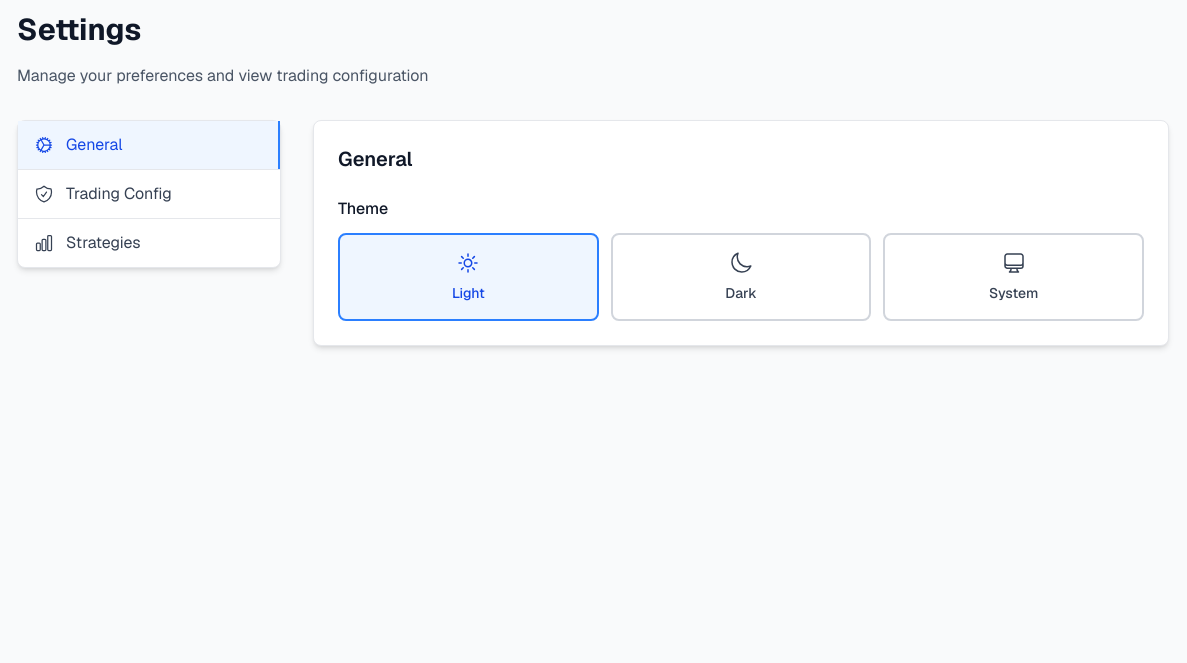
Test case: Settings Page › switches to Trading Config section
Click the button "Trading Config". click: (149, 194)
box: [18,170,280,218]
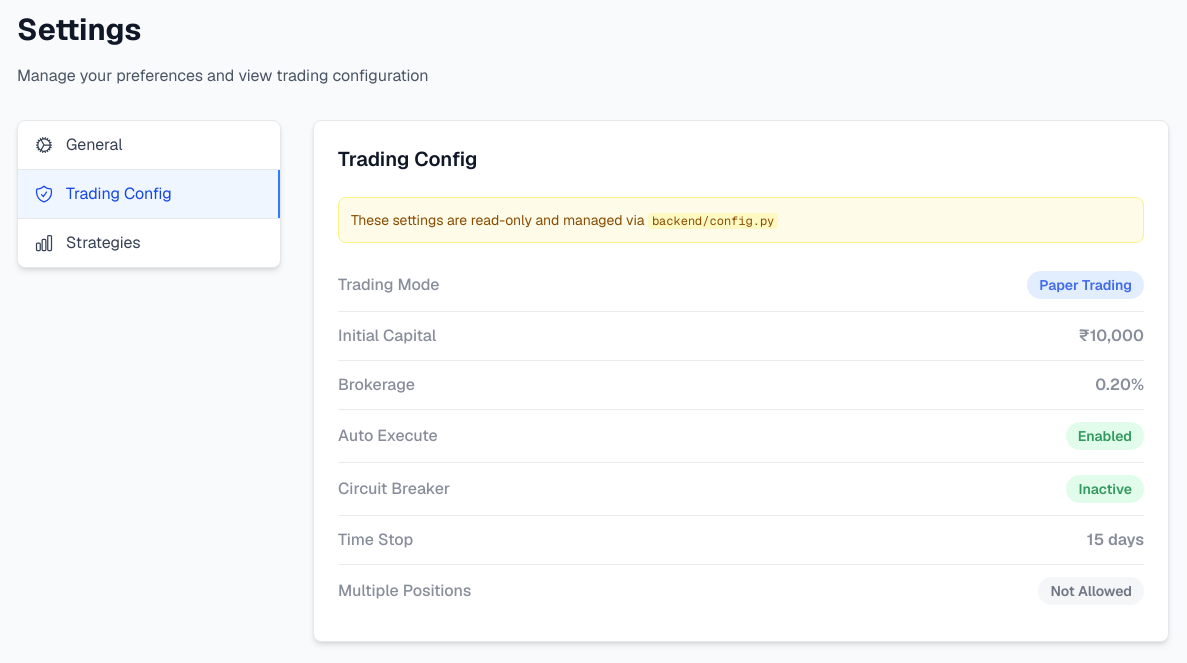
Now the text "Paper Trading" is shown, box [1027,271,1144,299]
